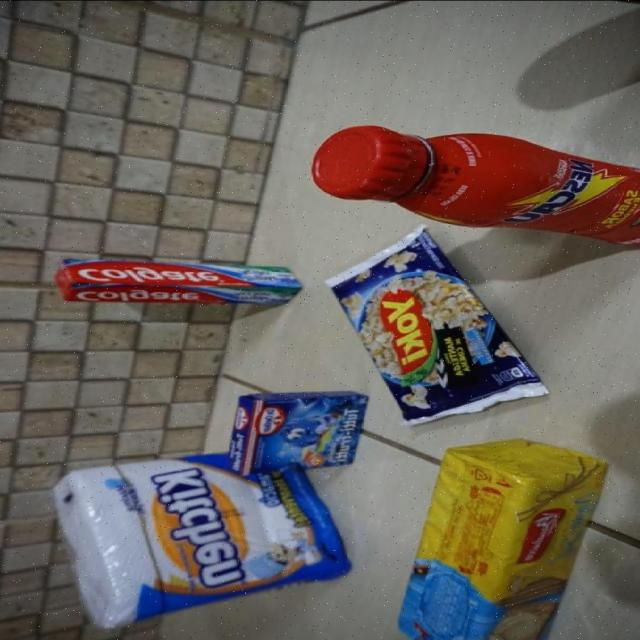ChocolateMilk: (310, 122, 640, 248), (313, 126, 640, 246)
Cracker: (394, 435, 612, 640), (394, 436, 604, 640)
Gelatine: (226, 388, 370, 478), (236, 388, 363, 473)
Napkin: (49, 446, 352, 630), (48, 456, 350, 628)
Popcorn: (325, 224, 553, 426), (327, 234, 535, 423)
Toothpaste: (54, 249, 301, 308), (50, 256, 304, 308)
